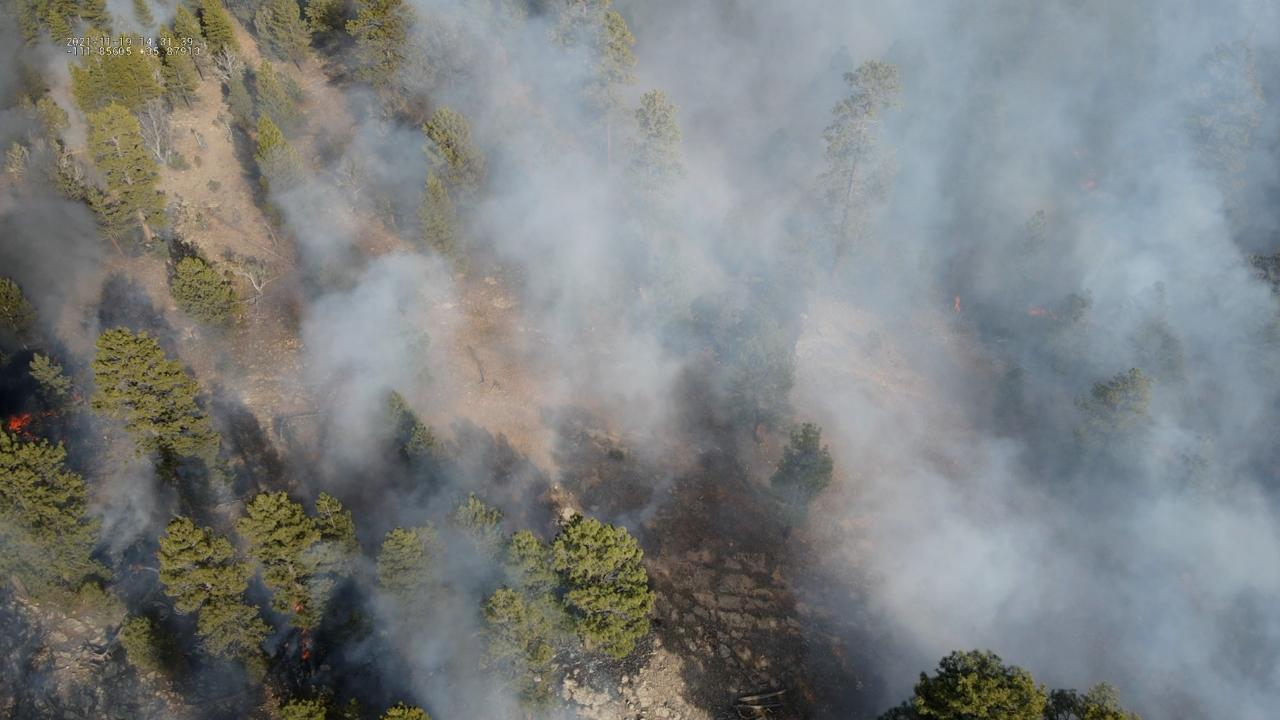fire: (4, 408, 62, 439), (290, 599, 314, 663), (1022, 306, 1048, 319), (952, 294, 964, 313)
smoke: (0, 0, 1280, 720)
